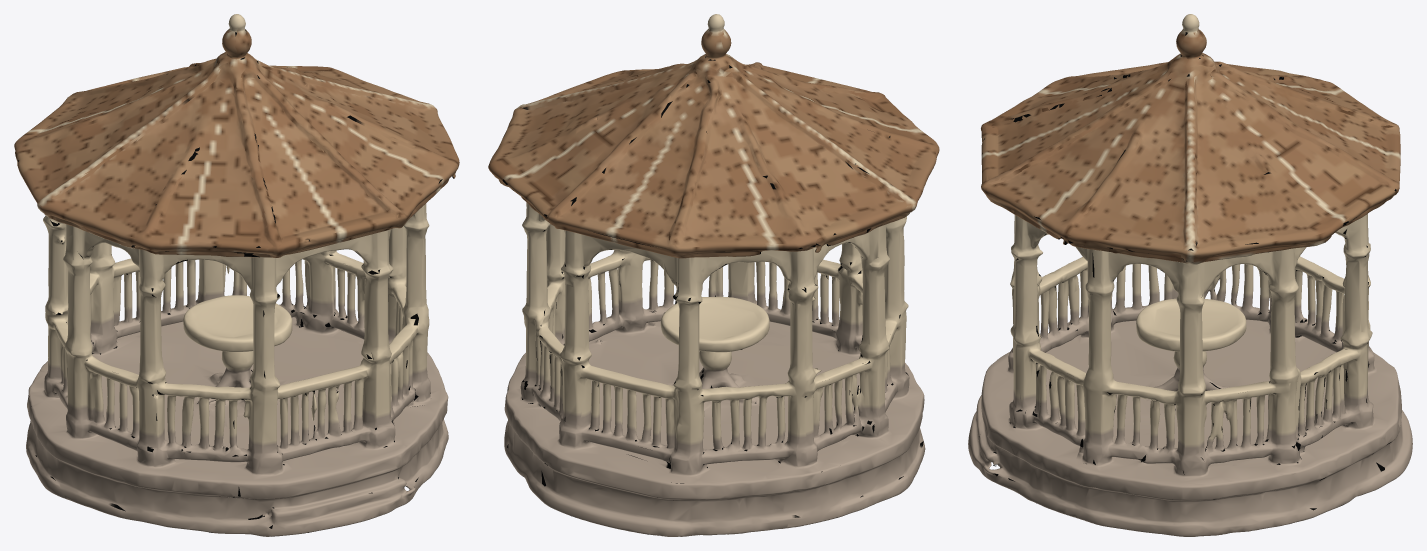
File: gazebo-textured.glb
The picture shows the model from 3 angles, left to right: view 1: azimuth 30°, elevation 25°; view 2: azimuth 150°, elevation 25°; view 3: azimuth 270°, elevation 25°; orthographic projection.
Visible parts, largest first — view 1: gazebo - original generated mesh; view 2: gazebo - original generated mesh; view 3: gazebo - original generated mesh.
Part boxes in pixels (left/top/right/bottom): gazebo - original generated mesh: left=14, top=14, right=459, bottom=536; gazebo - original generated mesh: left=488, top=14, right=939, bottom=536; gazebo - original generated mesh: left=968, top=14, right=1412, bottom=536.
Bounding box in the file's own units: 5.32 × 5.5 × 5.15.
Materials: 1 (1 with a texture image).
